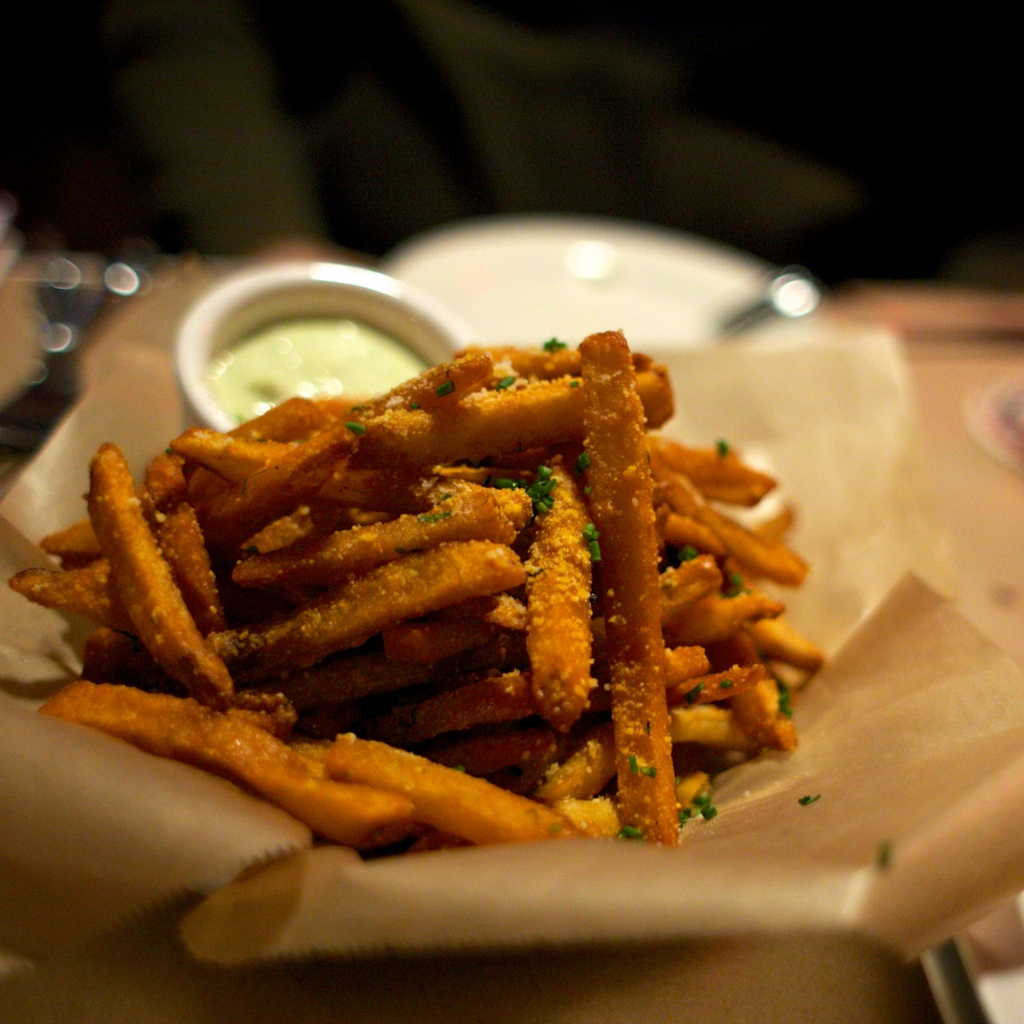French fries: (0, 315, 838, 853)
